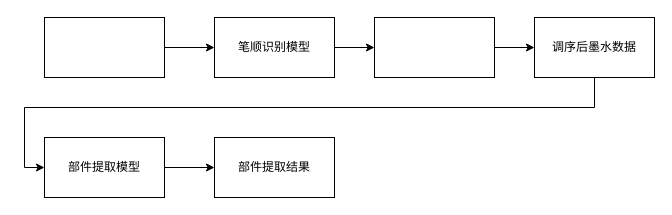
This 672x215 diagram has some shape labels left out. Each missing label, with the box of its shape:
数字墨水数据: (44, 16, 164, 78)
笔顺识别结果: (374, 16, 494, 78)
